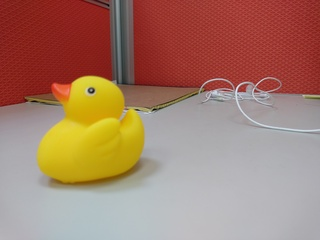duck: (28, 68, 153, 197)
